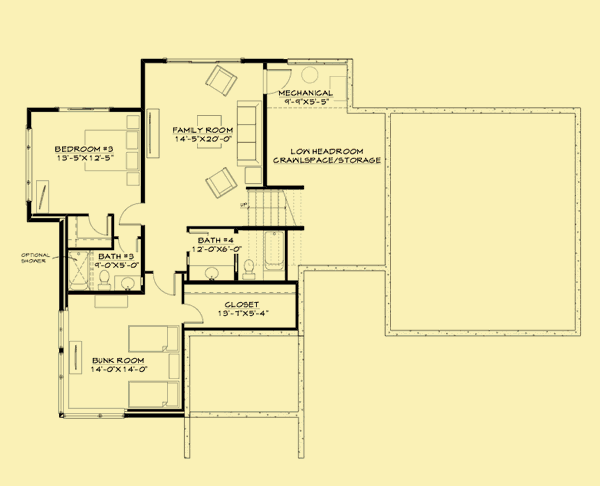bed: (83, 127, 141, 173), (124, 379, 180, 410), (126, 324, 180, 355)
door: (261, 66, 292, 94), (118, 199, 146, 228), (149, 270, 177, 296), (87, 212, 112, 236), (181, 302, 204, 326)
large_sink: (240, 258, 260, 281), (95, 269, 112, 290)
large_sofa: (235, 99, 264, 170)
small_sink: (188, 263, 234, 284), (113, 275, 142, 292)
small_sofa: (205, 65, 238, 97), (204, 167, 237, 199)
stairs: (237, 187, 306, 227)
tub: (67, 248, 93, 292), (263, 230, 286, 270)
window: (57, 309, 71, 413), (24, 124, 35, 203)
